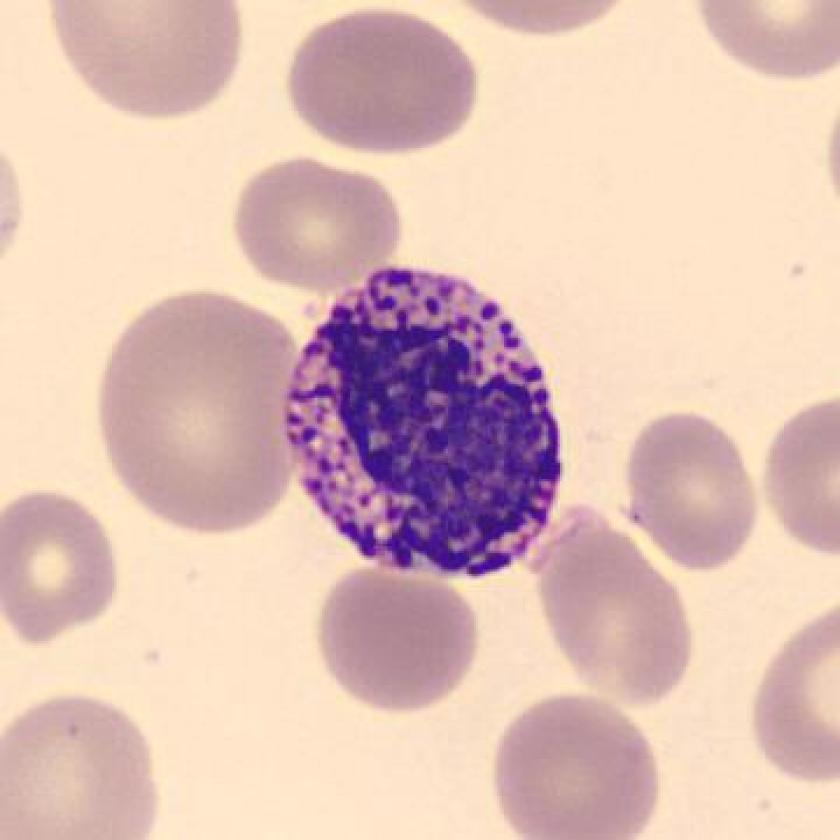basophil: (274, 249, 580, 589)
